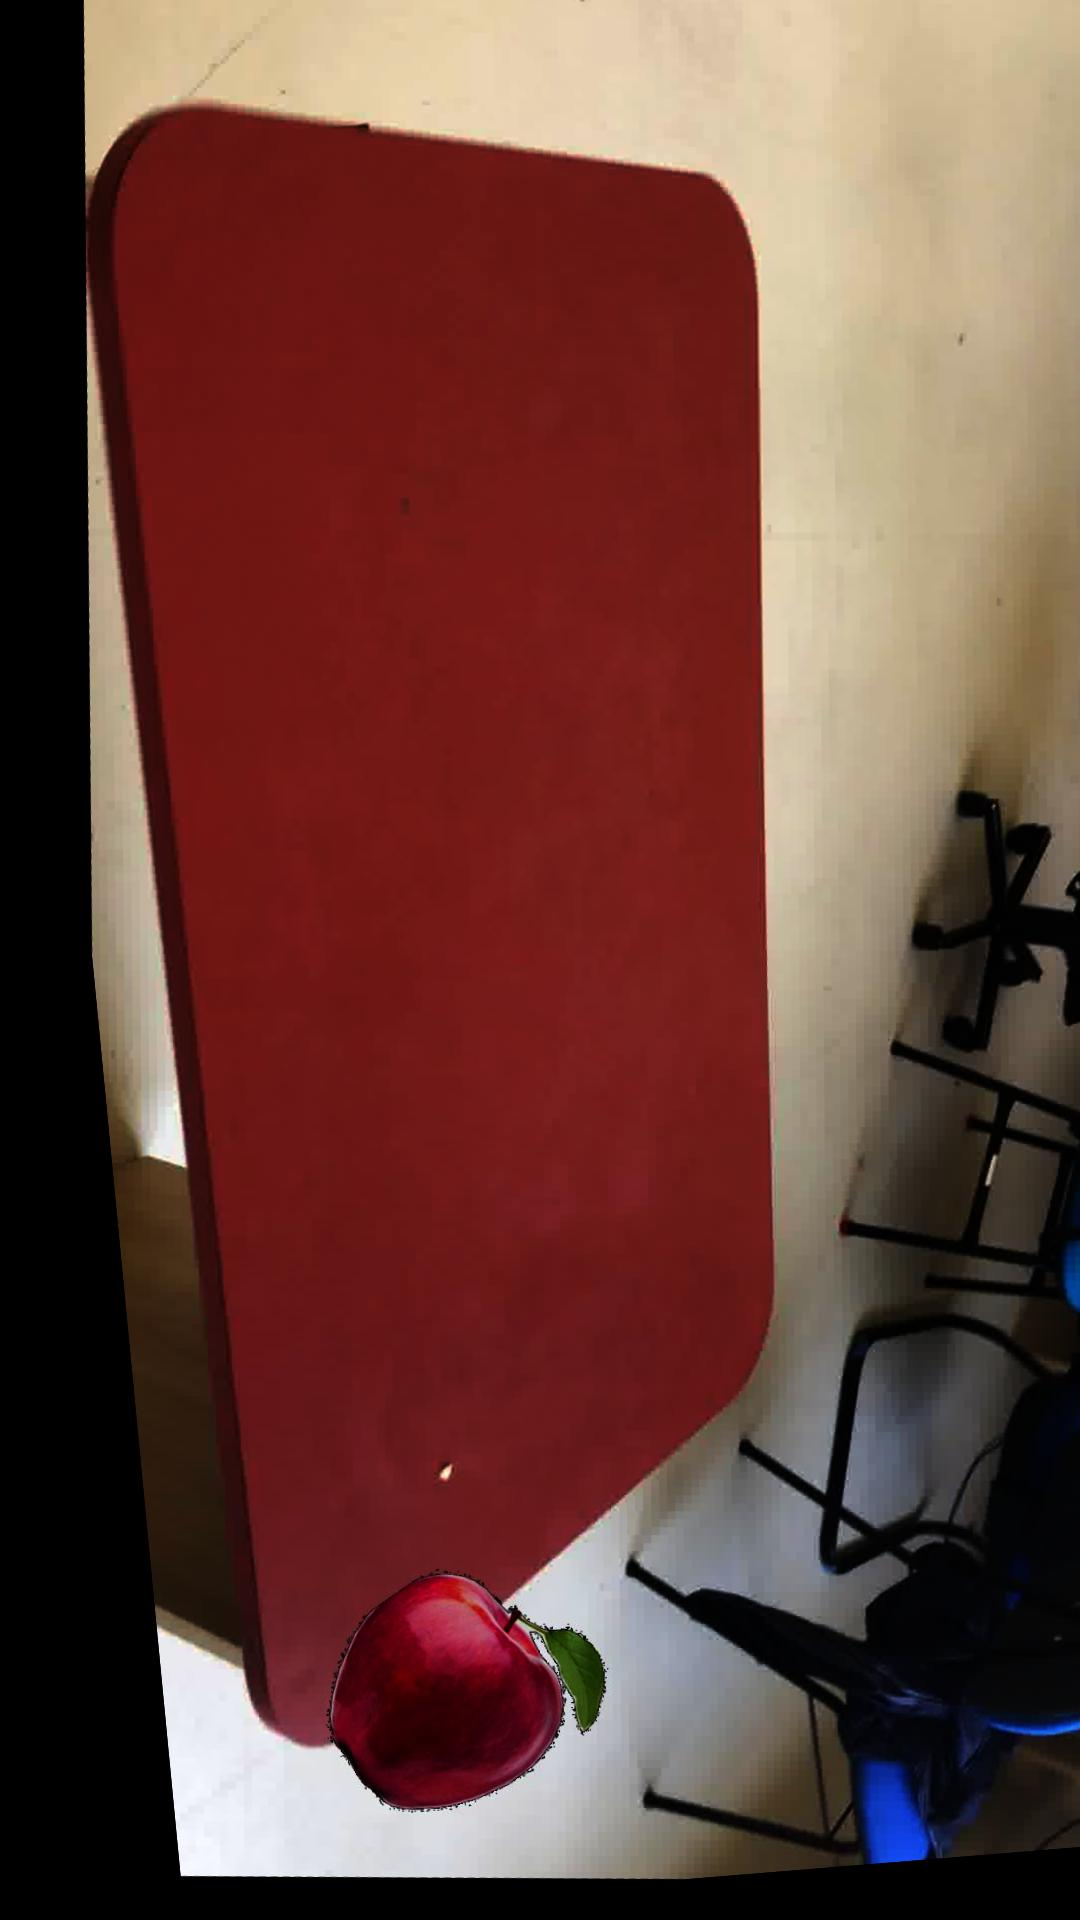apple: (291, 1576, 567, 1812)
